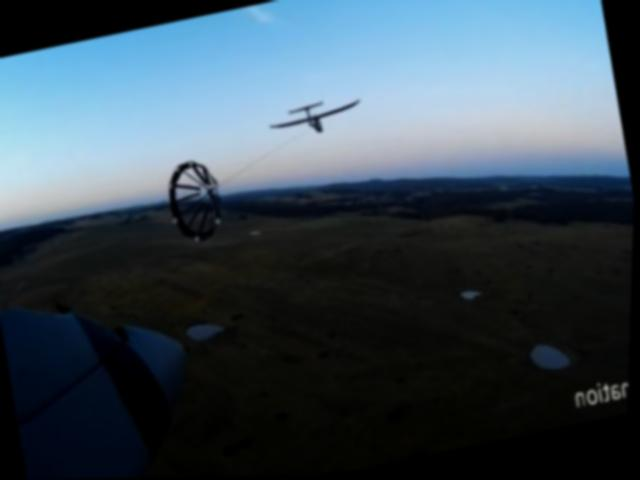uav: (266, 90, 365, 143)
